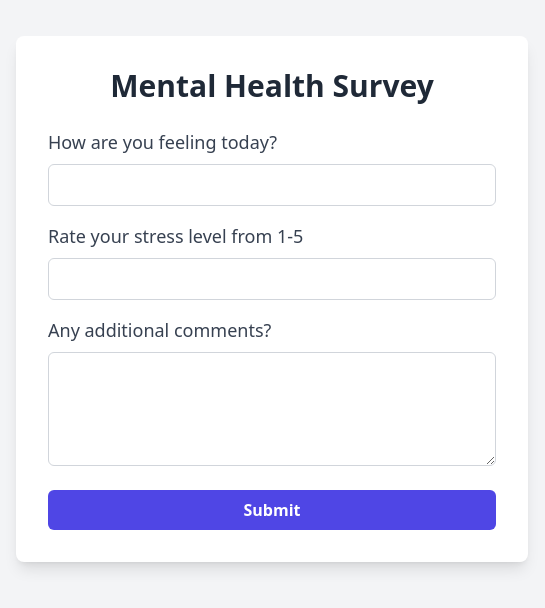
Test: SurveyForm › submits the form successfully
Type "Good" into the field labelled "How are you feeling today?".
click(272, 185); type("Good")  # box 48,164 -> 496,206
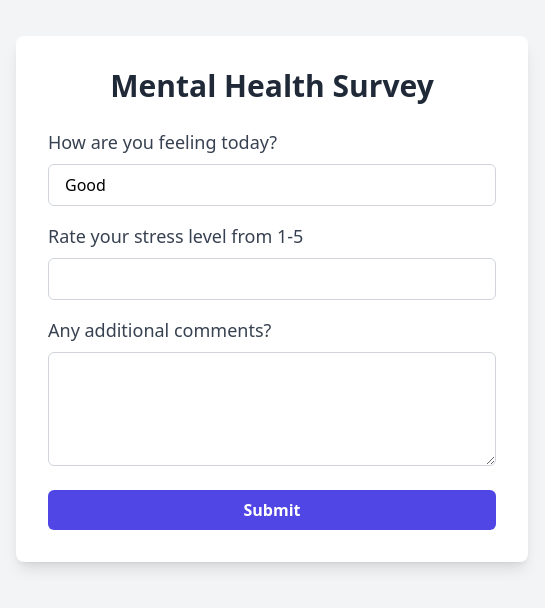
Type "3" into the number field labelled "Rate your stress level from 1-5".
click(272, 279); type("3")  # box 48,258 -> 496,300
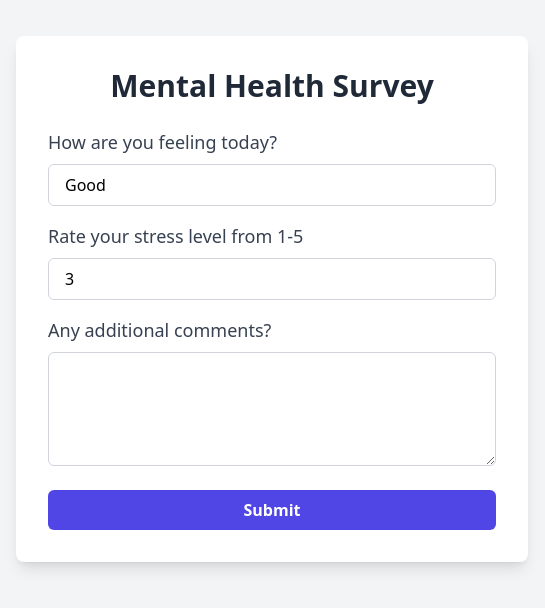
Type "No comments" into the text box labelled "Any additional comments?".
click(272, 409); type("No comments")  # box 48,352 -> 496,466
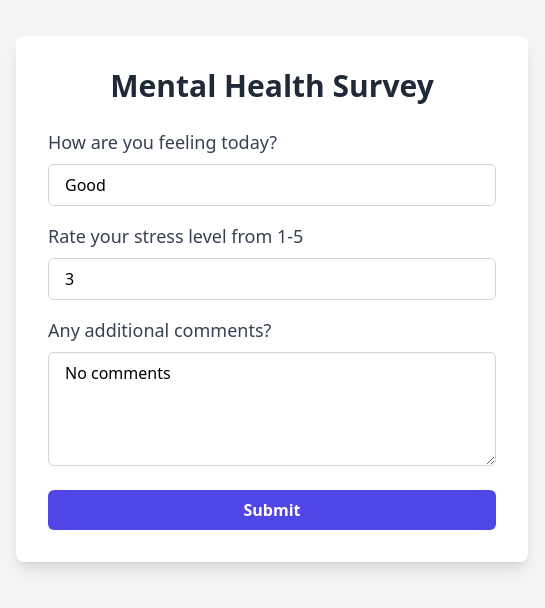
Click the button "Submit".
click(272, 510)  # box 48,490 -> 496,530
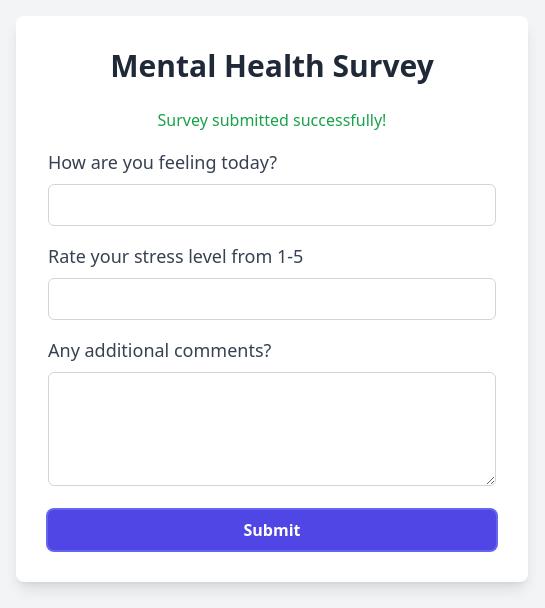
Result: the text "Survey submitted successfully!" is shown at 158,109 -> 386,131
